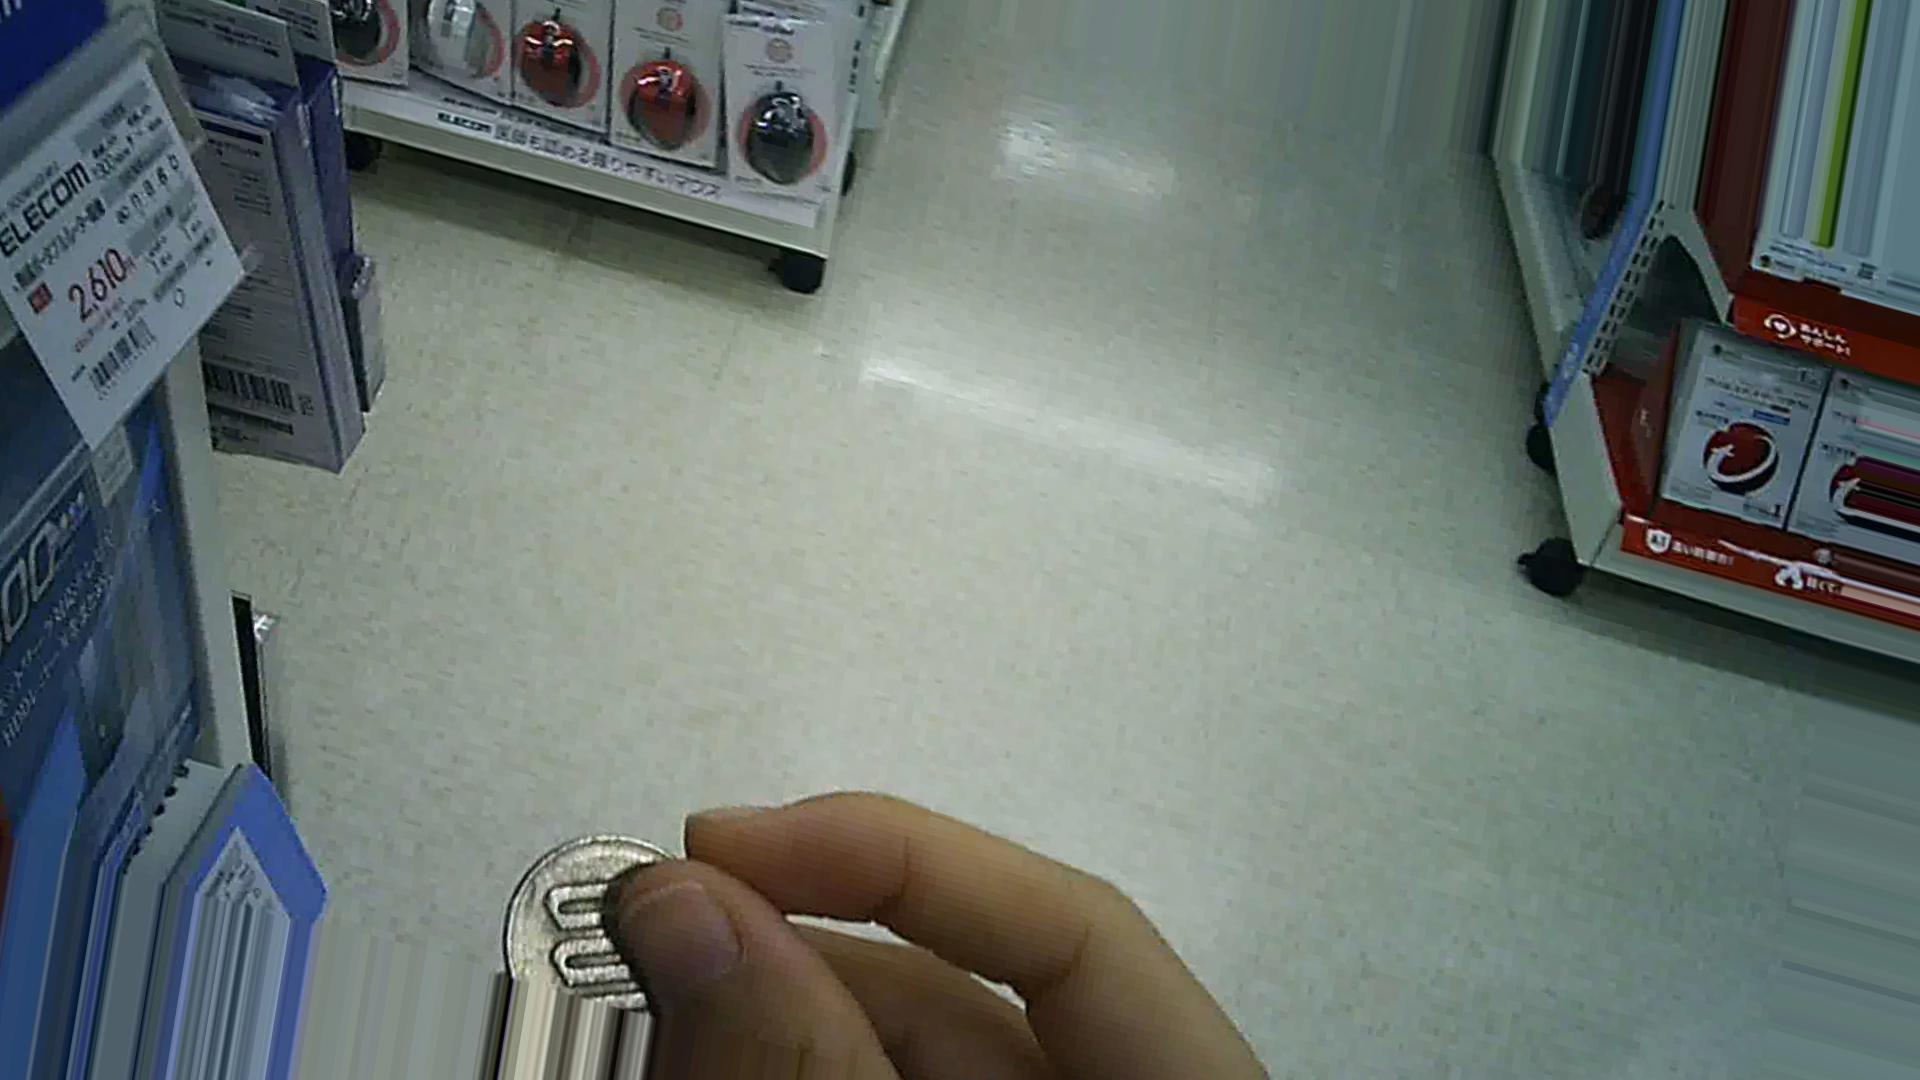100 Yen: (493, 825, 731, 1033)
